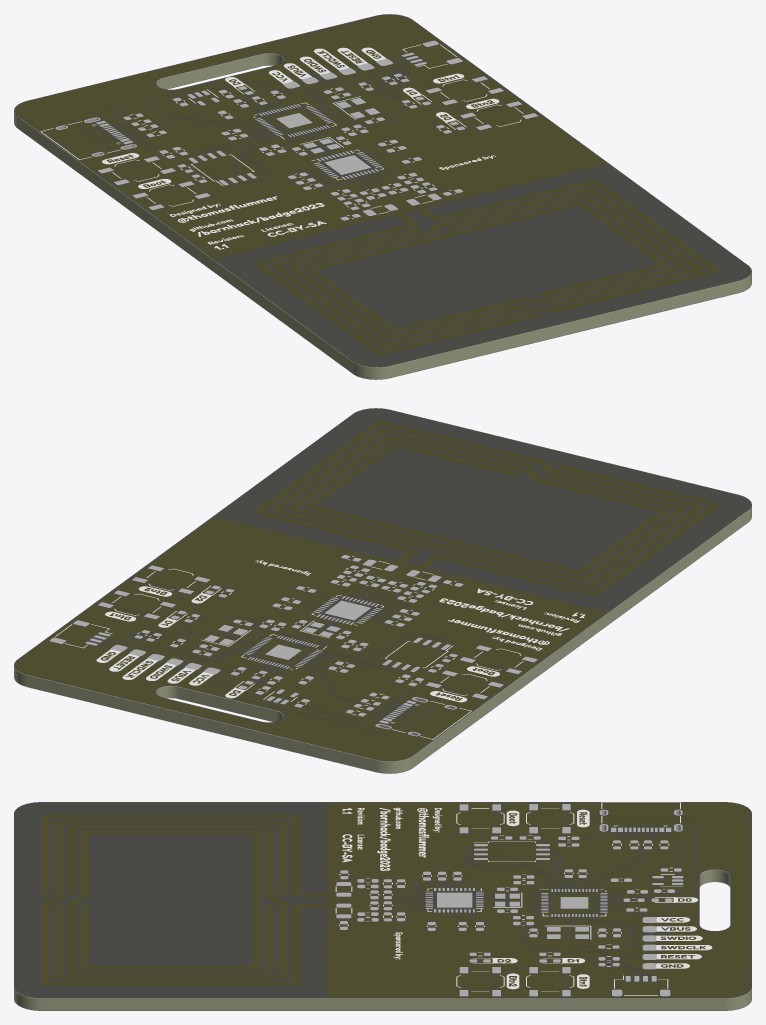
The model's file is bornhack-2023-badge.glb.
3 renders of one model, top to bottom at view 1: azimuth 30°, elevation 25°; view 2: azimuth 150°, elevation 25°; view 3: azimuth 270°, elevation 25°, orthographic.
Parts seen in each view (by area): view 1: =>[0:1:1:7], =>[0:1:1:2], =>[0:1:1:9], =>[0:1:1:5]; view 2: =>[0:1:1:7], =>[0:1:1:2], =>[0:1:1:9], =>[0:1:1:5]; view 3: =>[0:1:1:7], =>[0:1:1:2], =>[0:1:1:9], =>[0:1:1:5].
Part boxes in pixels (bbox=[...]): =>[0:1:1:7]: bbox=[14, 14, 751, 379]; =>[0:1:1:2]: bbox=[16, 15, 720, 354]; =>[0:1:1:9]: bbox=[14, 20, 751, 379]; =>[0:1:1:5]: bbox=[40, 44, 523, 249]; =>[0:1:1:7]: bbox=[14, 408, 751, 773]; =>[0:1:1:2]: bbox=[16, 421, 720, 760]; =>[0:1:1:9]: bbox=[14, 409, 751, 773]; =>[0:1:1:5]: bbox=[55, 556, 585, 739]; =>[0:1:1:7]: bbox=[14, 802, 751, 1010]; =>[0:1:1:2]: bbox=[42, 803, 749, 997]; =>[0:1:1:9]: bbox=[14, 803, 751, 1010]; =>[0:1:1:5]: bbox=[335, 802, 712, 995].
Bounding box in the file's own units: 0.054 × 0.00166 × 0.0857.
Materials: 4 (4 with a texture image).
